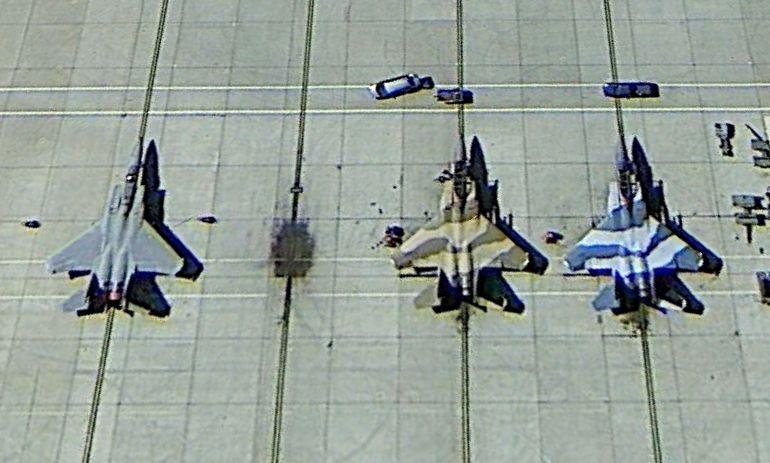F-15: (41, 142, 198, 321), (562, 139, 717, 320), (390, 127, 539, 315)
